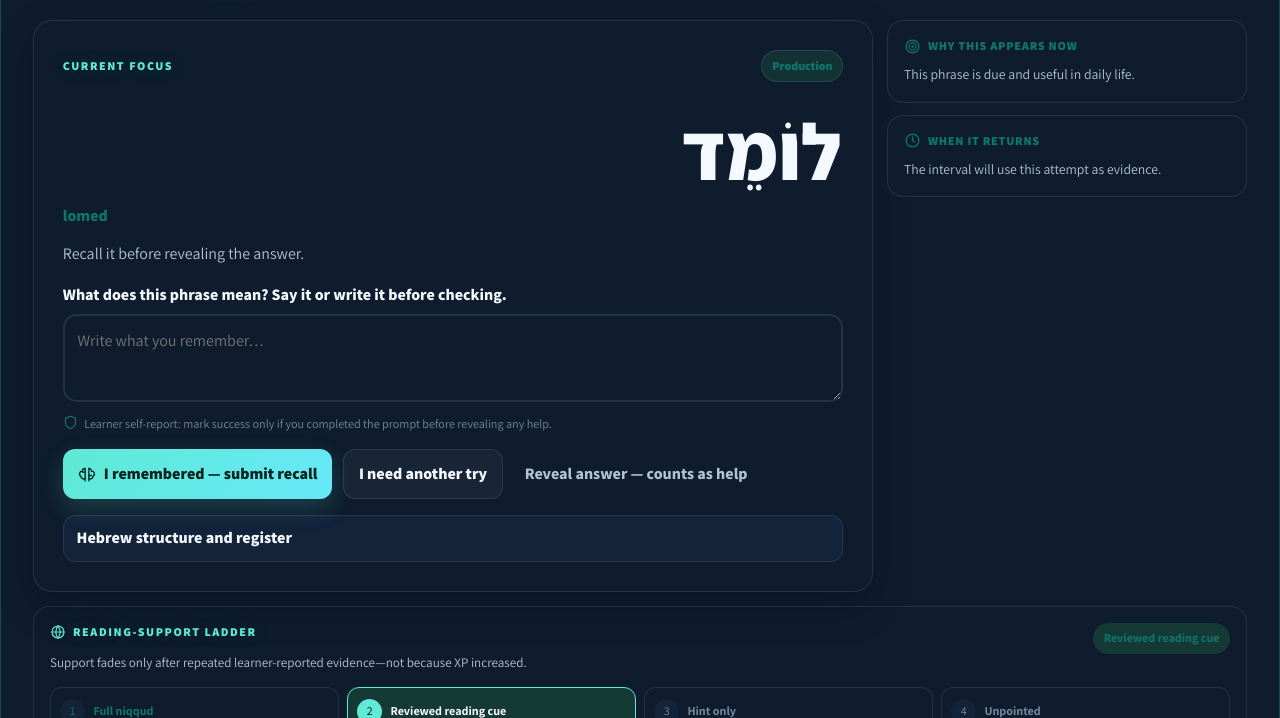
it: LearningCoreJourney › submits only learner evidence and displays the server schedule and transition
(page scrolled)
In the text box with placeholder "Write what you remember…": (453, 358) x1=63 y1=314 x2=844 y2=402, type "learning"
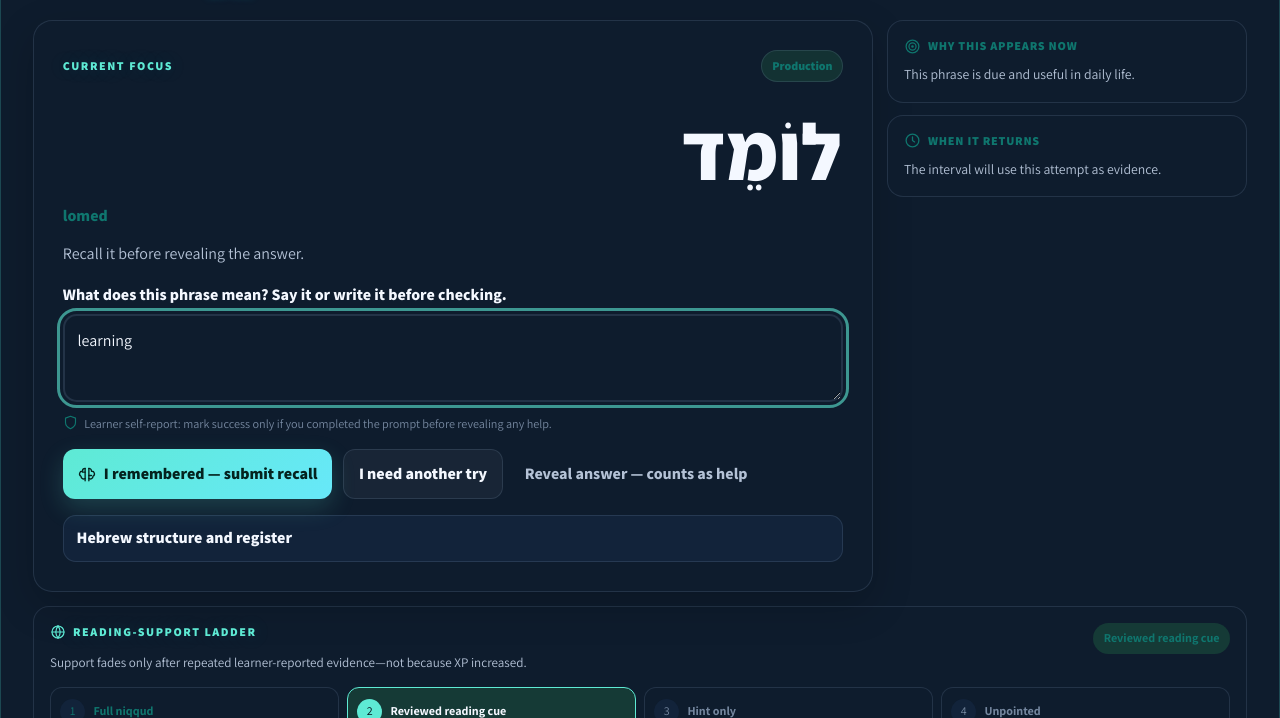
Click the button "I remembered — submit recall": (198, 474) x1=63 y1=448 x2=332 y2=499
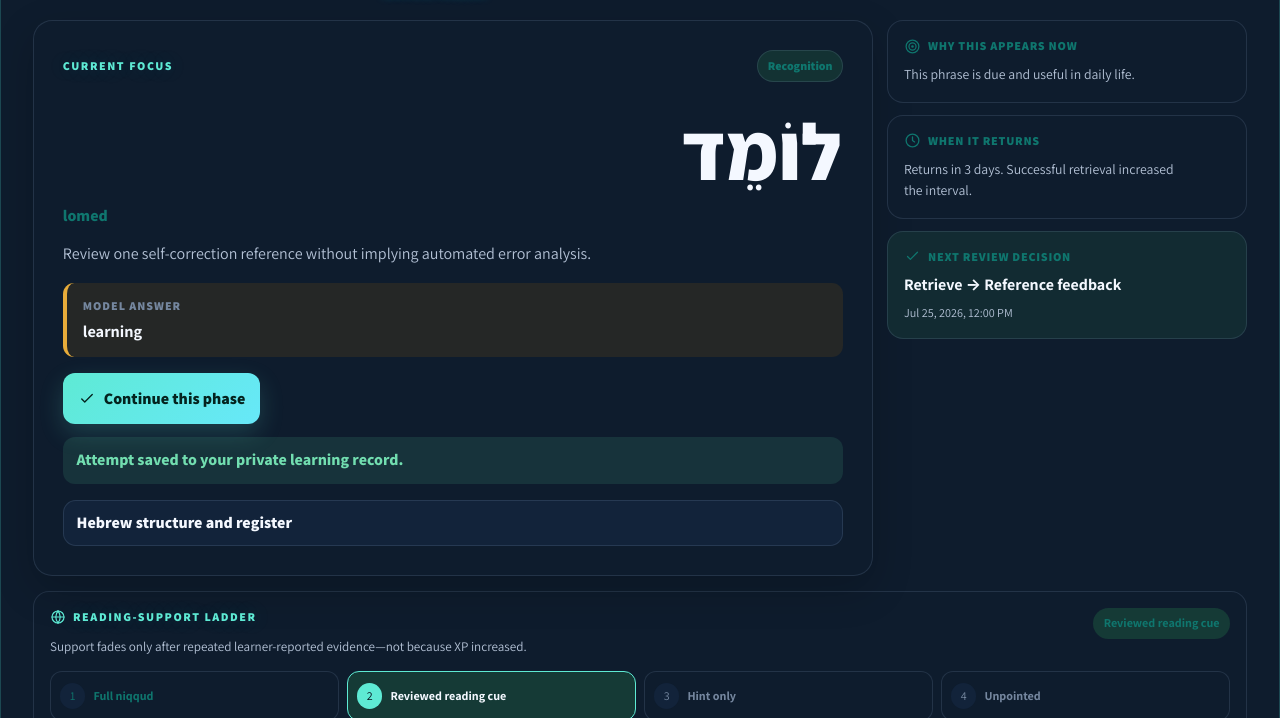
Now the text "Returns in 3 days" is shown, box x1=904 y1=160 x2=1174 y2=199
Now the text "Retrieve → Reference feedback" is shown, box x1=904 y1=274 x2=1121 y2=295
